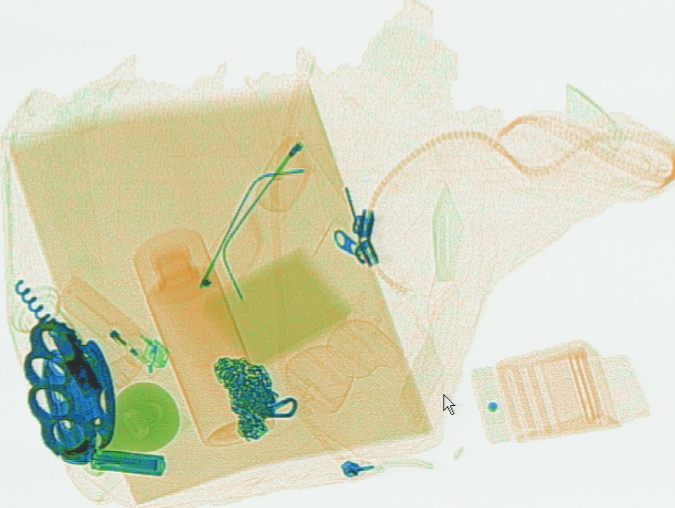lighter: (49, 269, 169, 380)
